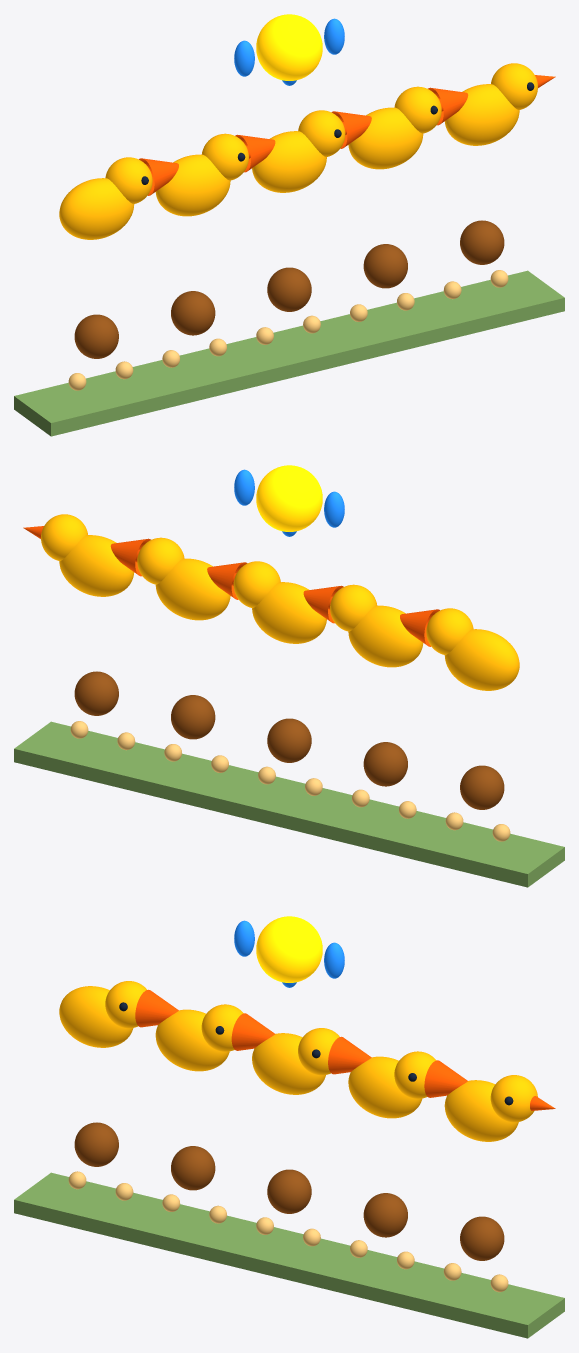
The model's file is selection.glb.
3 renders of one model, top to bottom at view 1: azimuth 30°, elevation 25°; view 2: azimuth 150°, elevation 25°; view 3: azimuth 330°, elevation 25°, orthographic.
Parts seen in each view (by area): view 1: ground, sun, bigAb, big1b, smallEb, big3b, big2b, bigSeed0, bigSeed4, bigSeed3, bigSeed1, bigSeed2 (+11 smaller); view 2: ground, sun, bigAb, big1b, smallEb, big3b, big2b, bigSeed0, bigSeed4, bigSeed3, bigSeed1, bigSeed2 (+11 smaller); view 3: ground, sun, bigAb, big1b, big3b, big2b, smallEb, smallEh, bigSeed0, bigSeed4, bigSeed1, bigSeed3 (+11 smaller).
Part boxes in pixels (box(x1,y1,x2,y2)): ground: box(14, 270, 564, 436); sun: box(256, 14, 322, 80); bigAb: box(59, 178, 134, 239); big1b: box(155, 154, 230, 216); smallEb: box(444, 84, 519, 145); big3b: box(348, 107, 423, 169); big2b: box(252, 131, 326, 192); bigSeed0: box(74, 314, 118, 358); bigSeed4: box(460, 220, 504, 264); bigSeed3: box(363, 244, 407, 288); bigSeed1: box(171, 291, 215, 335); bigSeed2: box(267, 267, 311, 311); ground: box(14, 721, 564, 887); sun: box(256, 465, 322, 531); bigAb: box(444, 629, 519, 690); big1b: box(348, 605, 423, 667); smallEb: box(59, 535, 134, 596); big3b: box(155, 558, 230, 620); big2b: box(252, 582, 326, 643); bigSeed0: box(460, 765, 504, 809); bigSeed4: box(74, 671, 118, 715); bigSeed3: box(171, 695, 215, 739); bigSeed1: box(363, 742, 407, 786); bigSeed2: box(267, 718, 311, 762); ground: box(14, 1172, 564, 1338); sun: box(256, 916, 322, 982); bigAb: box(59, 986, 133, 1047); big1b: box(155, 1009, 229, 1071); big3b: box(348, 1056, 422, 1118); big2b: box(252, 1033, 325, 1094); smallEb: box(444, 1080, 518, 1141); smallEh: box(490, 1075, 537, 1122); bigSeed0: box(74, 1122, 118, 1166); bigSeed4: box(460, 1216, 504, 1260); bigSeed1: box(171, 1146, 215, 1190); bigSeed3: box(363, 1193, 407, 1237).
Size of what is drawn, in the model's own units: 0.815 by 0.51 by 0.1.
